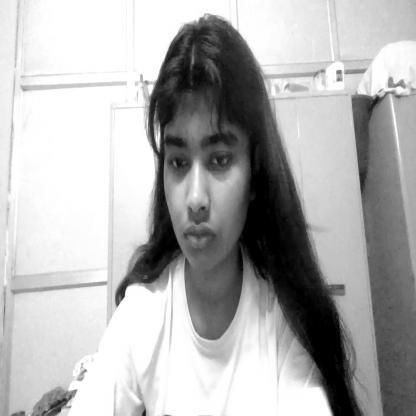Normal: (148, 22, 269, 284)
